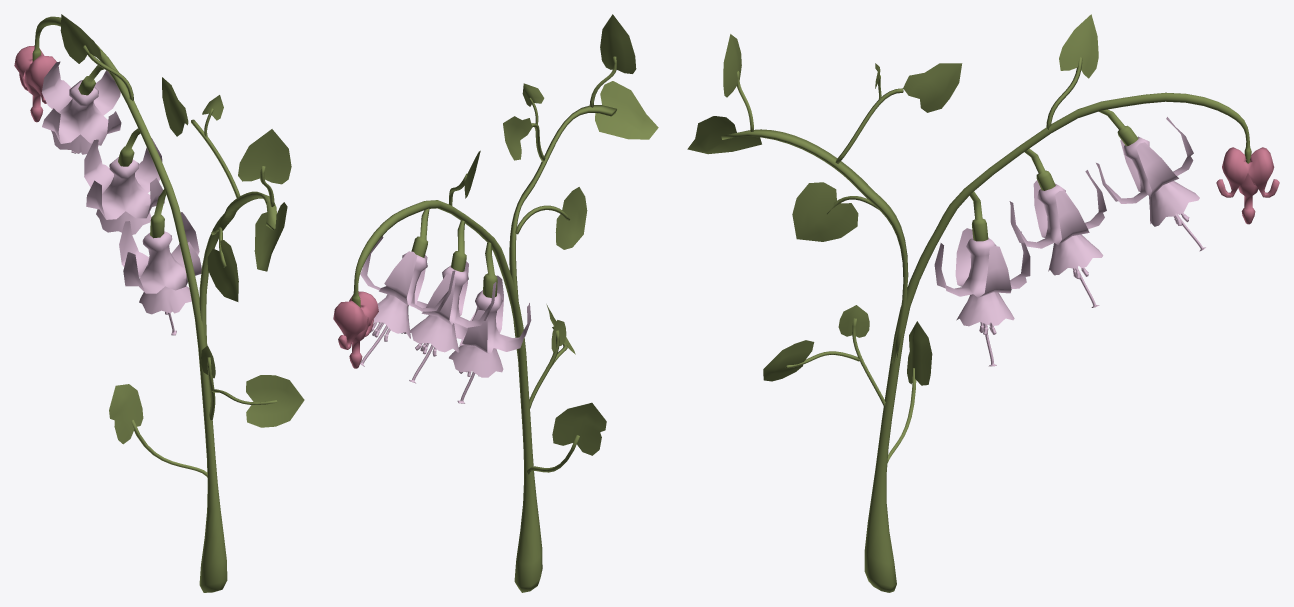
The model's file is MDL_hearty_step03.fbx.
The picture shows the model from 3 angles, left to right: view 1: azimuth 30°, elevation 25°; view 2: azimuth 150°, elevation 25°; view 3: azimuth 270°, elevation 25°; orthographic projection. The views are drawn at different scales.
Visible parts, largest first — view 1: MDL_hearty_step03; view 2: MDL_hearty_step03; view 3: MDL_hearty_step03.
Boxes of the visible parts, <box> form: MDL_hearty_step03: <box>14,14,304,592</box>; MDL_hearty_step03: <box>333,14,658,592</box>; MDL_hearty_step03: <box>687,14,1279,592</box>.
Bounding box in the file's own units: 12.9 × 50.82 × 49.52.
